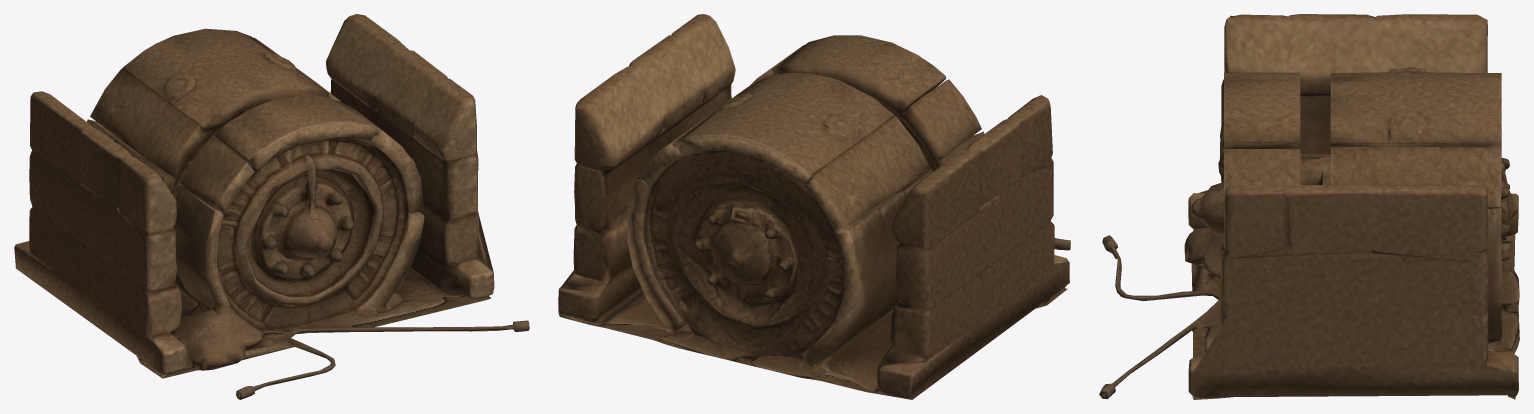
Rendered from drum.glb.
3 views of the same model, side by side, from view 1: azimuth 30°, elevation 25°; view 2: azimuth 150°, elevation 25°; view 3: azimuth 270°, elevation 25° (orthographic). The views are drawn at different scales.
Bounding box in the file's own units: 1.9 × 1.13 × 1.89.
1 material, 1 textured.
